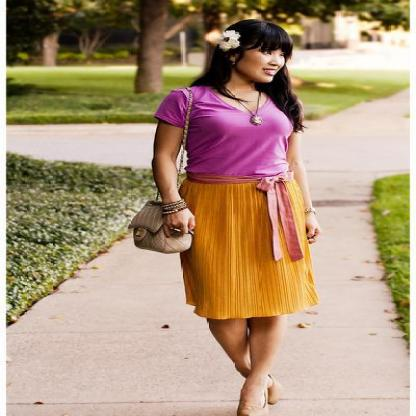bag: (128, 146, 190, 254)
shirt: (155, 86, 297, 172)
shoe: (236, 391, 276, 415)
skirt: (178, 182, 318, 324)
